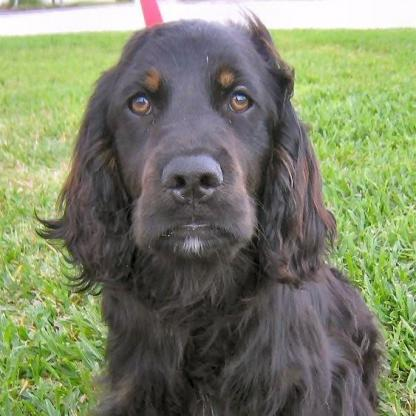Gordon_setter: (32, 8, 392, 414)
